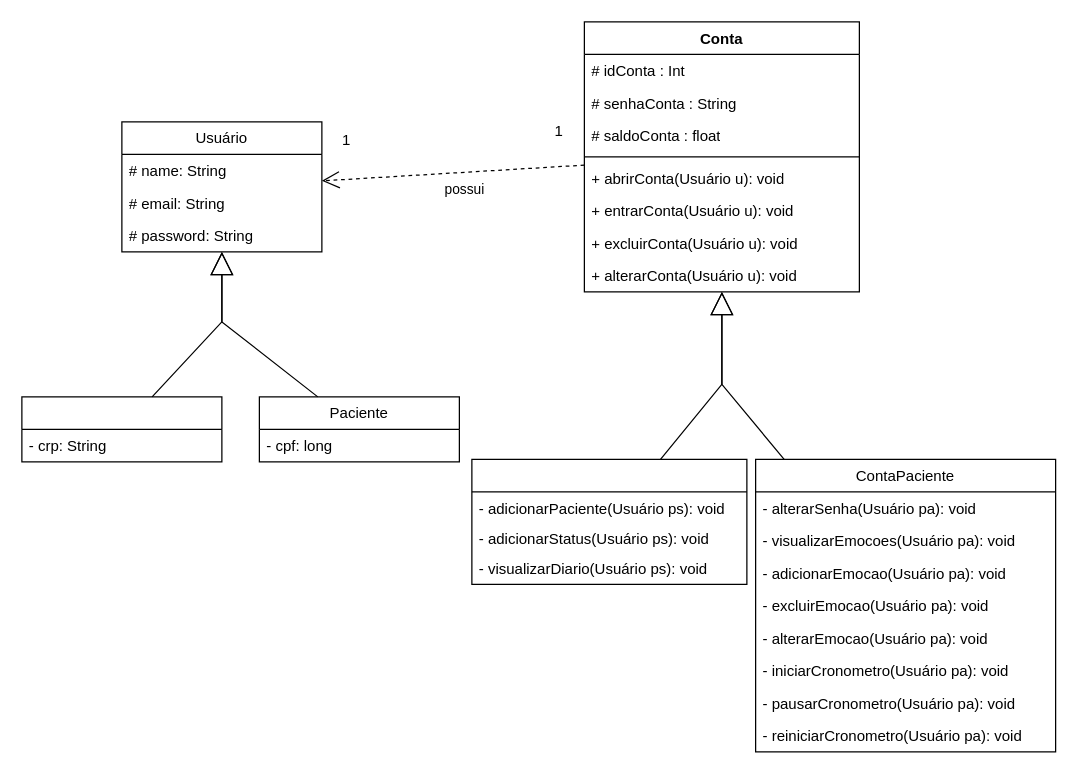
Image size: 1078x778. Some labels were removed from this diagram. Each missing label, with the box of its shape:
ContaPsicólogo: (471, 458, 747, 584)
Psicólogo: (21, 396, 222, 462)
